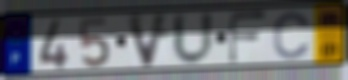4: (37, 17, 71, 72)
5: (77, 16, 112, 70)
C: (272, 10, 313, 61)
F: (227, 10, 270, 66)
U: (171, 10, 217, 67)
V: (125, 12, 172, 70)
